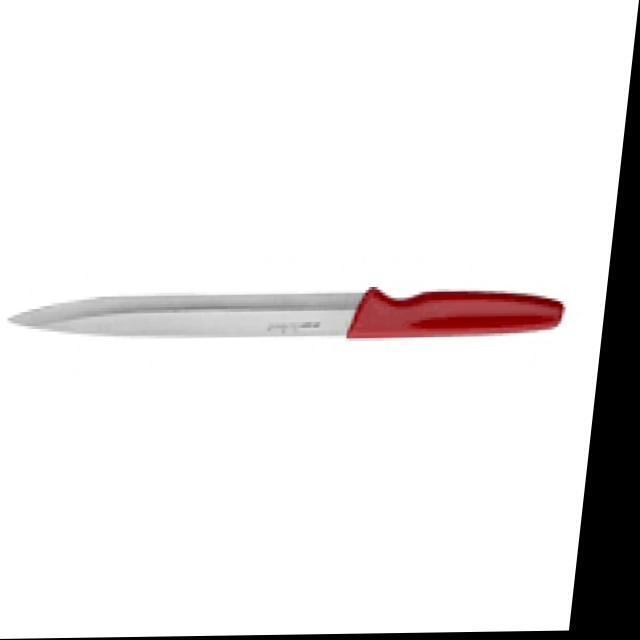knife: (9, 284, 566, 340)
